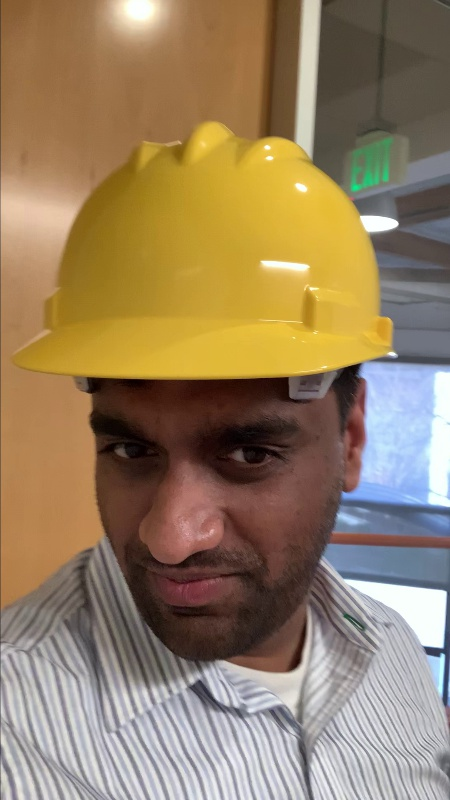helmet: (12, 122, 393, 404)
